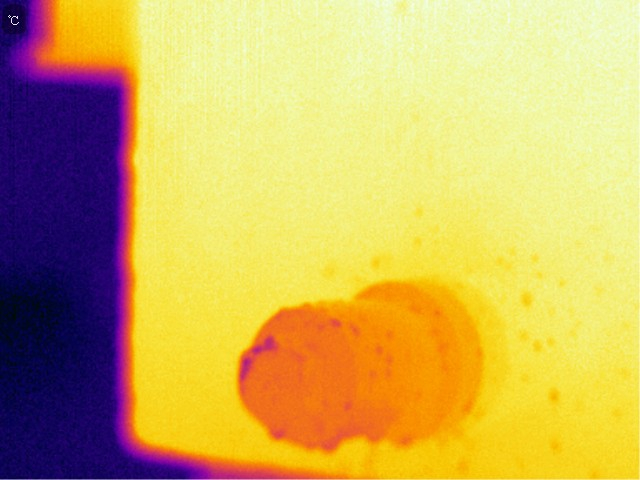Water: (363, 426, 386, 449), (267, 424, 287, 444), (394, 429, 413, 450), (322, 435, 340, 454), (327, 315, 346, 332)
